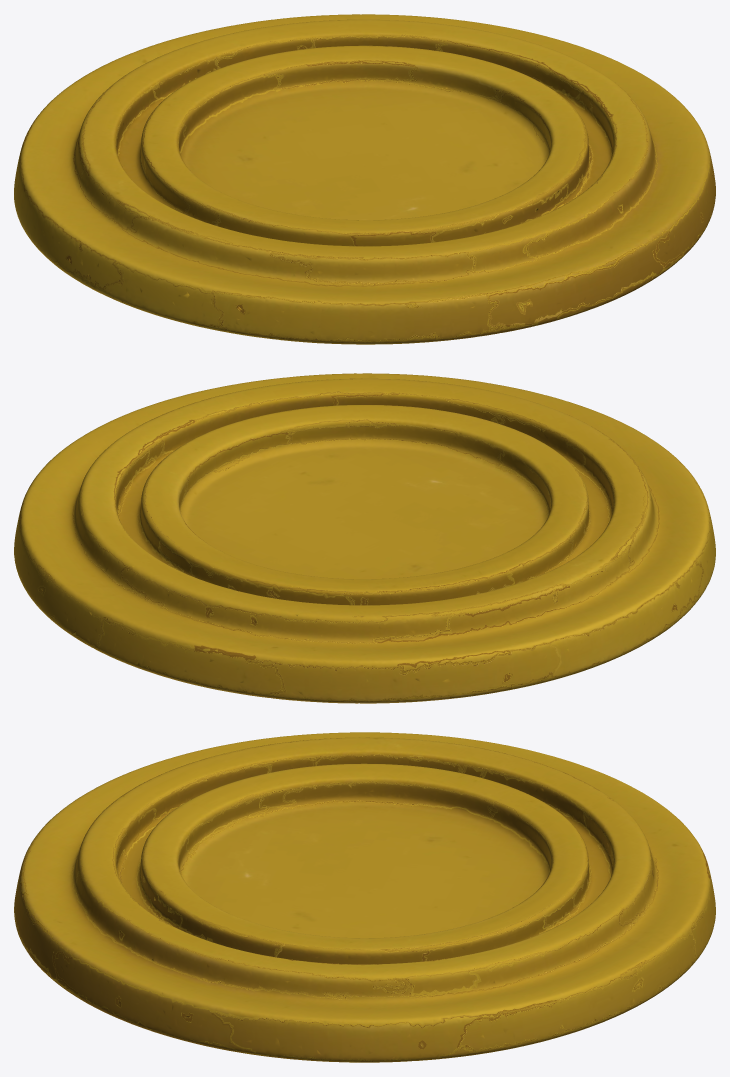
The picture shows the model from 3 angles, top to bottom: view 1: azimuth 30°, elevation 25°; view 2: azimuth 150°, elevation 25°; view 3: azimuth 270°, elevation 25°; orthographic projection.
Size of the model in its own units: 1.99 by 0.1958 by 1.99.
1 material, 1 textured.
